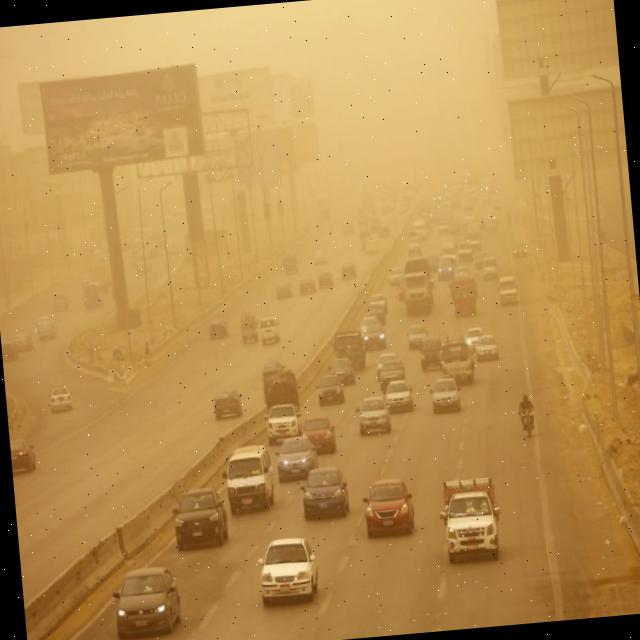bus: (262, 363, 304, 445), (400, 258, 434, 318), (448, 273, 480, 321), (442, 339, 474, 385), (333, 330, 368, 372), (82, 280, 106, 310), (238, 312, 260, 344)
car: (111, 562, 182, 638), (439, 484, 504, 562), (255, 534, 321, 606), (223, 443, 280, 516), (172, 486, 230, 550), (361, 475, 416, 537), (299, 464, 350, 518), (275, 433, 321, 482), (300, 414, 338, 455), (354, 394, 392, 434), (428, 374, 462, 413), (418, 336, 448, 374), (213, 386, 244, 420), (9, 434, 36, 472), (384, 378, 414, 412), (313, 373, 346, 402), (374, 350, 404, 380), (475, 332, 501, 364), (378, 358, 404, 388), (329, 358, 357, 385), (48, 381, 72, 411), (363, 320, 387, 350), (498, 274, 520, 305), (405, 322, 430, 349), (35, 315, 58, 341), (207, 314, 230, 339), (260, 316, 280, 344), (464, 323, 483, 349), (366, 292, 388, 312), (457, 239, 474, 263), (14, 330, 34, 350), (510, 239, 530, 259), (406, 235, 424, 257), (388, 264, 405, 287), (52, 292, 70, 312), (436, 258, 454, 278), (318, 270, 336, 290), (2, 341, 19, 362), (276, 279, 293, 300), (482, 257, 498, 279), (300, 275, 318, 293), (341, 262, 357, 280)
